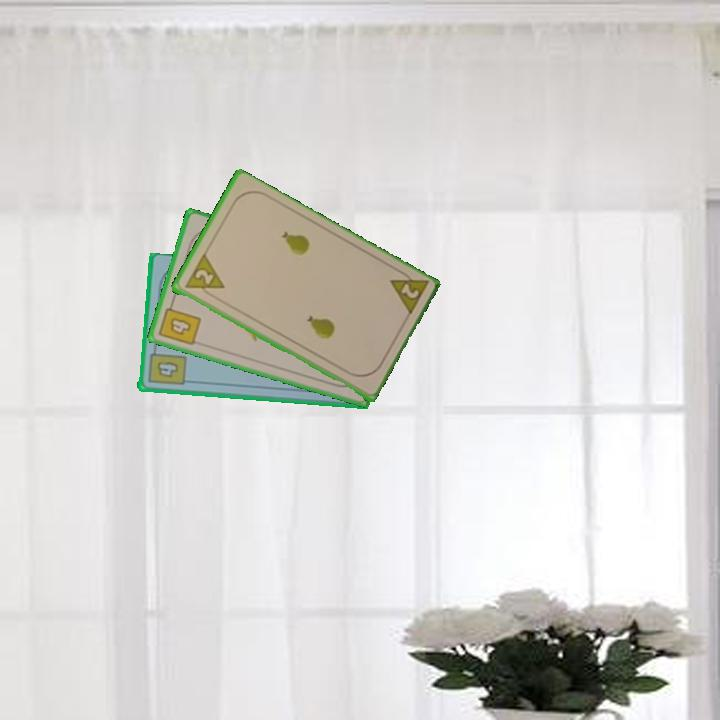2p: (385, 265, 431, 320), (181, 252, 227, 301)
4b: (155, 297, 204, 349), (144, 343, 188, 388)
